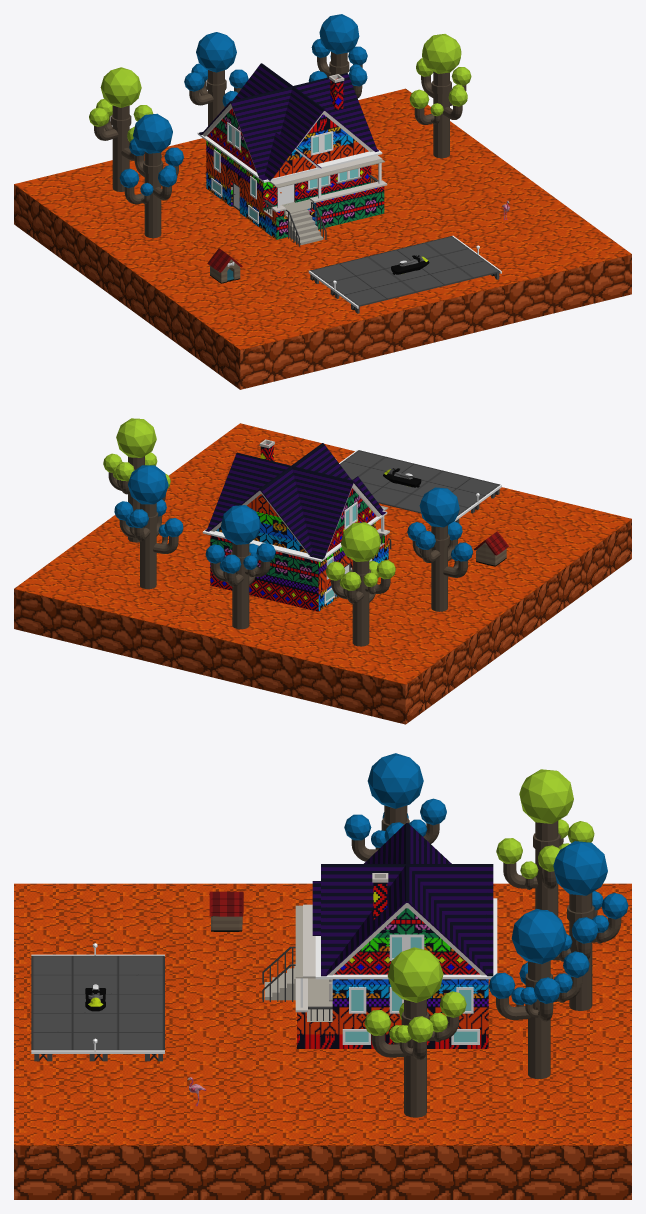
3 renders of one model, top to bottom at view 1: azimuth 30°, elevation 25°; view 2: azimuth 150°, elevation 25°; view 3: azimuth 270°, elevation 25°, orthographic. The views are drawn at different scales.
Visible parts, largest first — view 1: Cube.001, Cube.966, OBJRANDOM_DOGHOUSE; view 2: Cube.001, Cube.966, OBJRANDOM_DOGHOUSE, VEHICLES_WATERBIKE; view 3: Cube.001, Cube.966, OBJRANDOM_DOGHOUSE.
Part boxes in pixels (x1=…): Cube.001: x1=14, y1=14, x2=631, y2=389; Cube.966: x1=197, y1=63, x2=387, y2=246; OBJRANDOM_DOGHOUSE: x1=207, y1=248, x2=242, y2=283; Cube.001: x1=14, y1=418, x2=631, y2=724; Cube.966: x1=202, y1=439, x2=391, y2=611; OBJRANDOM_DOGHOUSE: x1=473, y1=531, x2=508, y2=566; VEHICLES_WATERBIKE: x1=383, y1=468, x2=421, y2=487; Cube.001: x1=14, y1=753, x2=631, y2=1199; Cube.966: x1=262, y1=823, x2=497, y2=1048; OBJRANDOM_DOGHOUSE: x1=209, y1=891, x2=243, y2=931.
Size of the model in its own units: 4000 by 1672 by 4000.
Materials: 37 (8 with a texture image).
